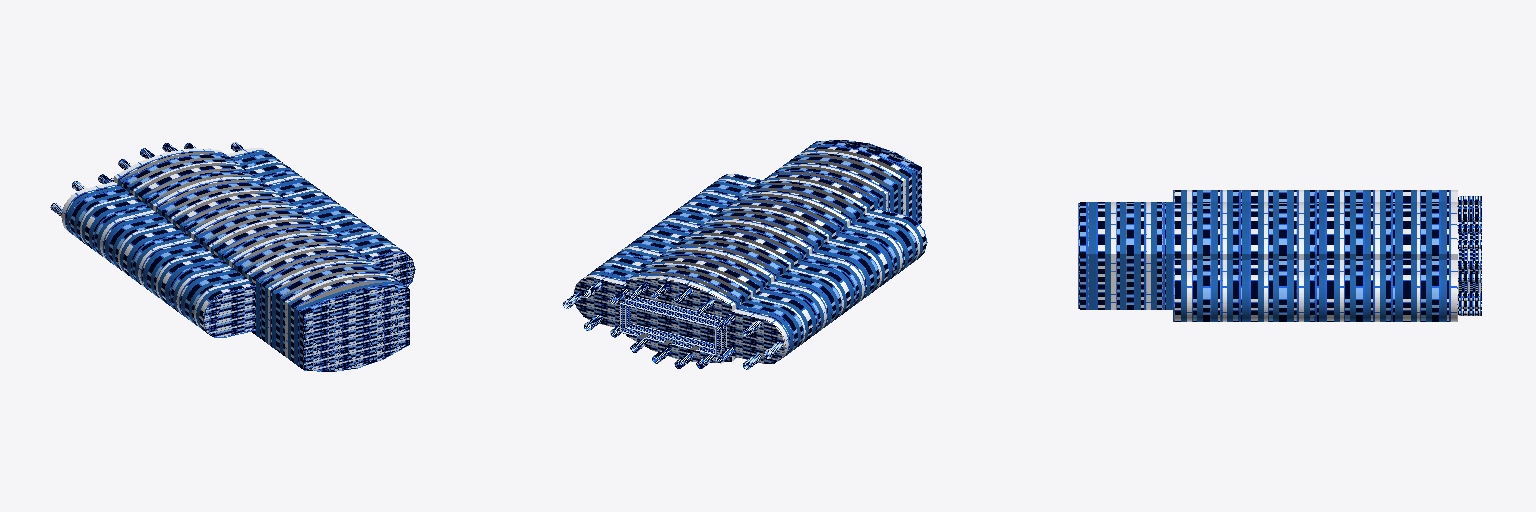
The picture shows the model from 3 angles: view 1: azimuth 30°, elevation 25°; view 2: azimuth 150°, elevation 25°; view 3: azimuth 270°, elevation 25°; orthographic projection.
Parts seen in each view (by area): view 1: wall_01, wall_03, glaz_01, slab_01, pole_01; view 2: wall_01, glaz_01, wall_03, slab_01, pole_01, wall_2_02, wall_2_01; view 3: wall_01, glaz_01, pole_01, wall_2_02.
Boxes of the visible parts, <box> form: wall_01: <box>62,148,408,368</box>; wall_03: <box>61,148,415,371</box>; glaz_01: <box>66,151,406,365</box>; slab_01: <box>122,152,401,332</box>; pole_01: <box>50,142,245,215</box>; wall_01: <box>574,141,920,362</box>; glaz_01: <box>582,145,922,358</box>; wall_03: <box>573,140,927,363</box>; slab_01: <box>587,149,907,355</box>; pole_01: <box>562,281,782,369</box>; wall_2_02: <box>619,299,721,355</box>; wall_2_01: <box>627,296,726,349</box>; wall_01: <box>1080,190,1456,321</box>; glaz_01: <box>1089,190,1446,321</box>; pole_01: <box>1458,196,1481,315</box>; wall_2_02: <box>1468,222,1481,292</box>.
Bounding box in the file's own units: 1924 × 673 × 3180.
Materials: 4 (1 with a texture image).